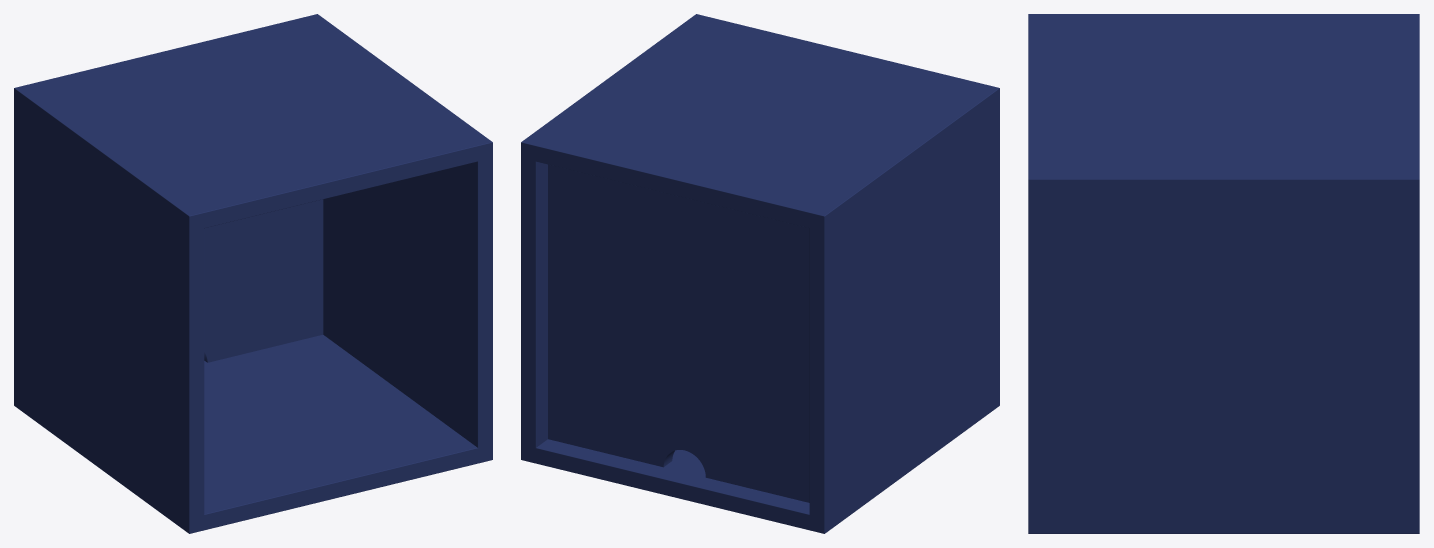
The model's file is MOD_1X1_A_B_AP_AF.glb.
3 views of the same model, side by side, from view 1: azimuth 30°, elevation 25°; view 2: azimuth 150°, elevation 25°; view 3: azimuth 270°, elevation 25° (orthographic). The views are drawn at different scales.
Bounding box in the file's own units: 360 × 360 × 360.
